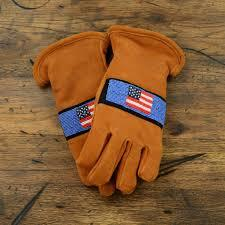gloves: (75, 25, 185, 195), (33, 31, 116, 195)
